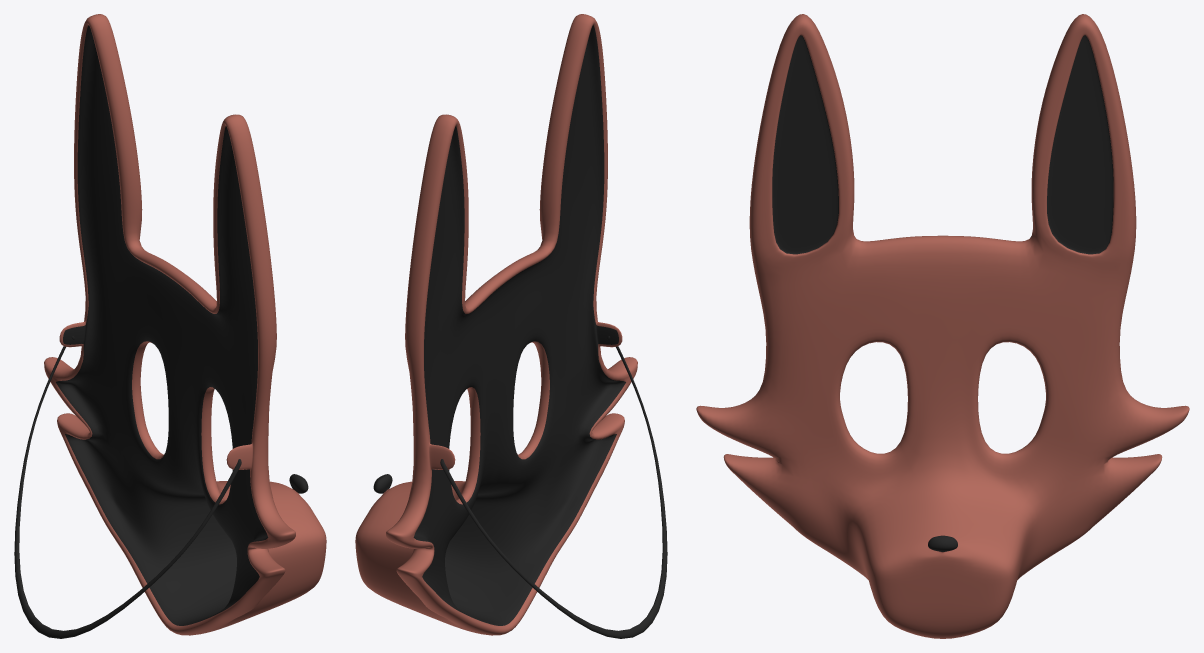
The model's file is foxMask_V2.fbx.
3 renders of one model, left to right at view 1: azimuth 30°, elevation 25°; view 2: azimuth 150°, elevation 25°; view 3: azimuth 270°, elevation 25°, orthographic. The views are drawn at different scales.
Parts seen in each view (by area): view 1: foxMask, maskRope; view 2: foxMask, maskRope; view 3: foxMask.
Boxes of the visible parts, x1=… form: foxMask: x1=44, y1=14, x2=326, y2=635; maskRope: x1=14, y1=336, x2=241, y2=638; foxMask: x1=355, y1=14, x2=637, y2=635; maskRope: x1=440, y1=336, x2=667, y2=638; foxMask: x1=696, y1=14, x2=1189, y2=638.
Size of the model in its own units: 163 by 331 by 254.
